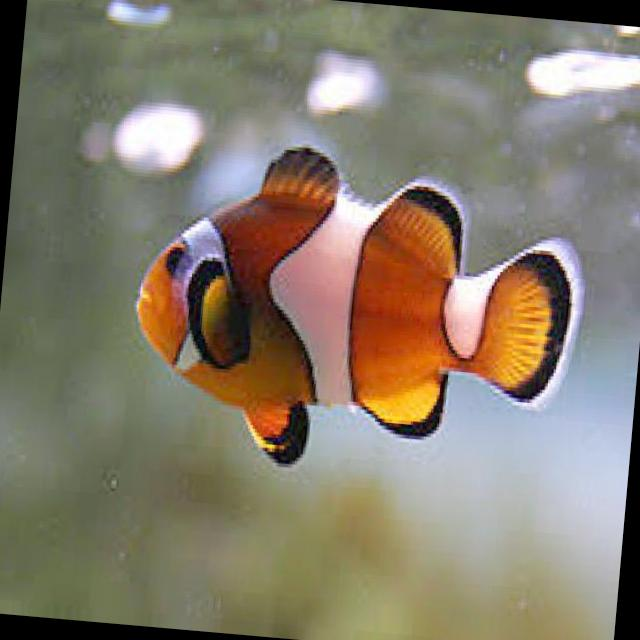ButterflyFish: (120, 132, 590, 490)
